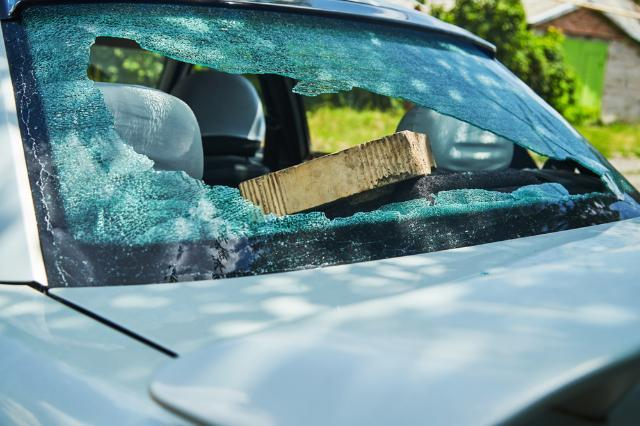glass shatter: (2, 0, 640, 288)
